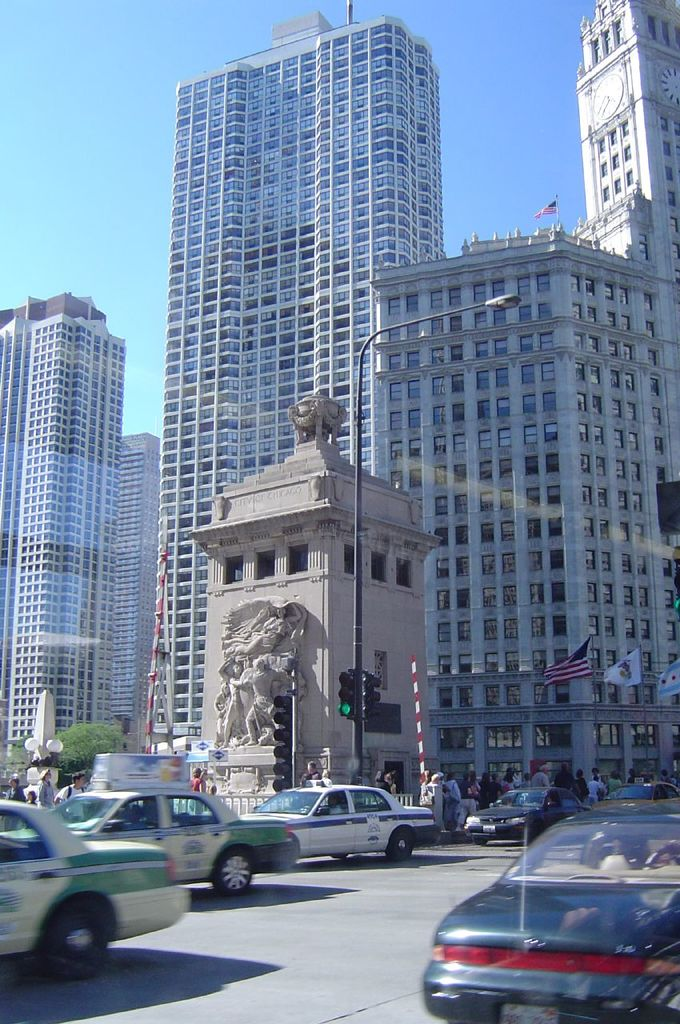Car: (408, 806, 663, 1013), (0, 748, 306, 884), (0, 792, 190, 971), (243, 780, 442, 860), (463, 787, 574, 840), (605, 780, 679, 809)
